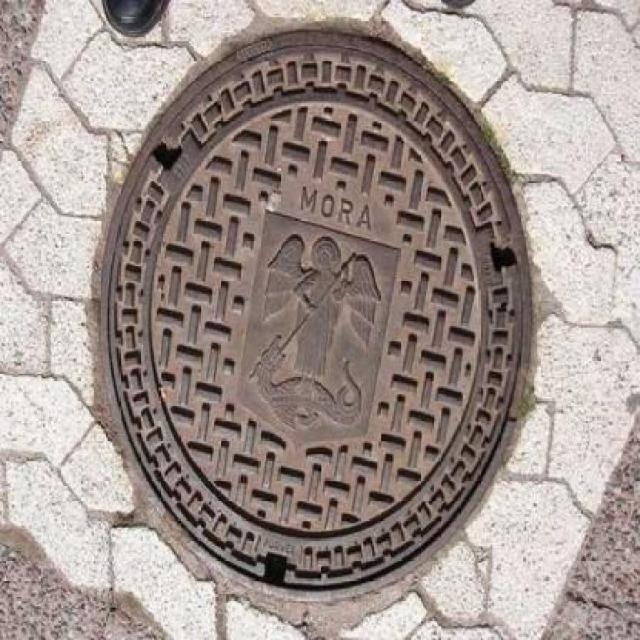Manhole: (68, 15, 540, 602)
